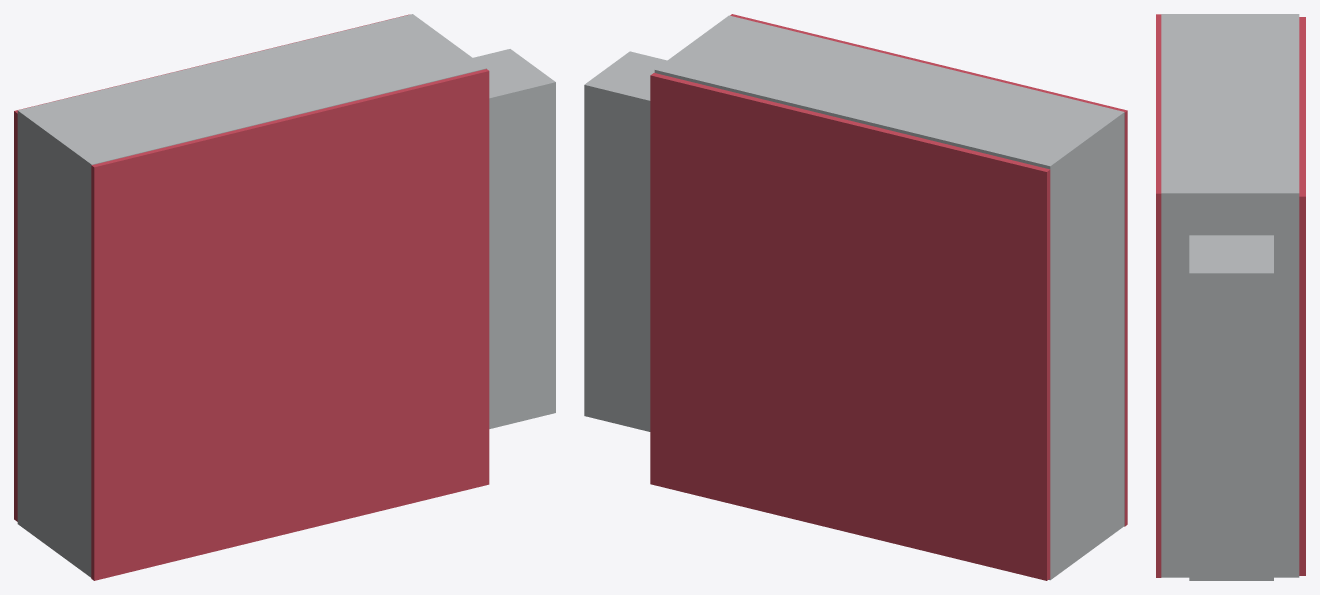
Rendered from CARTEL_3D.glb.
The picture shows the model from 3 angles, left to right: view 1: azimuth 30°, elevation 25°; view 2: azimuth 150°, elevation 25°; view 3: azimuth 270°, elevation 25°; orthographic projection. The views are drawn at different scales.
Visible parts, largest first — view 1: Mesh_Mesh_head_geo.001_lambert2SG.001; view 2: Mesh_Mesh_head_geo.001_lambert2SG.001; view 3: Mesh_Mesh_head_geo.001_lambert2SG.001.
Part boxes in pixels (x1,y1,x2,y2): Mesh_Mesh_head_geo.001_lambert2SG.001: (14,14,555,580); Mesh_Mesh_head_geo.001_lambert2SG.001: (584,14,1127,580); Mesh_Mesh_head_geo.001_lambert2SG.001: (1156,14,1305,580).
Size of the model in its own units: 0.0971 by 0.0801 by 0.0282.
